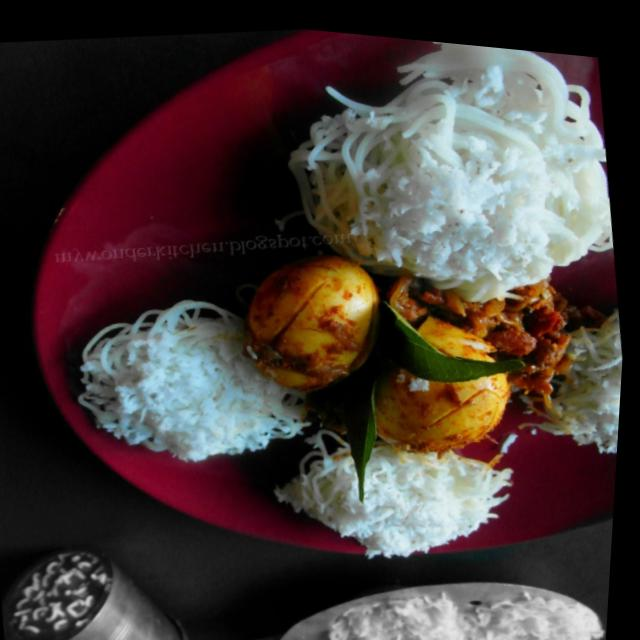EGG: (247, 239, 567, 457)
IDIYAPPAM: (79, 42, 620, 562)
